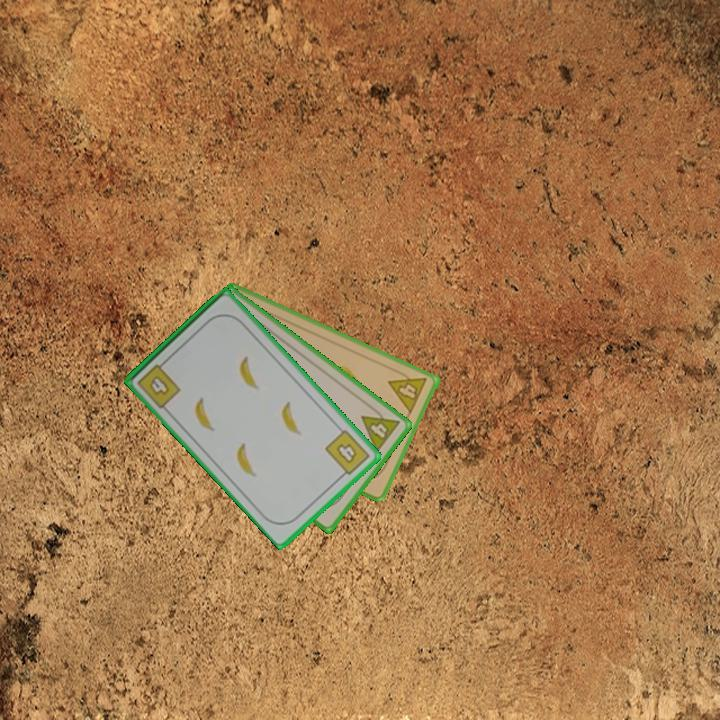4b: (321, 426, 373, 481), (134, 356, 184, 412)
4p: (358, 401, 403, 456), (385, 365, 430, 417)
